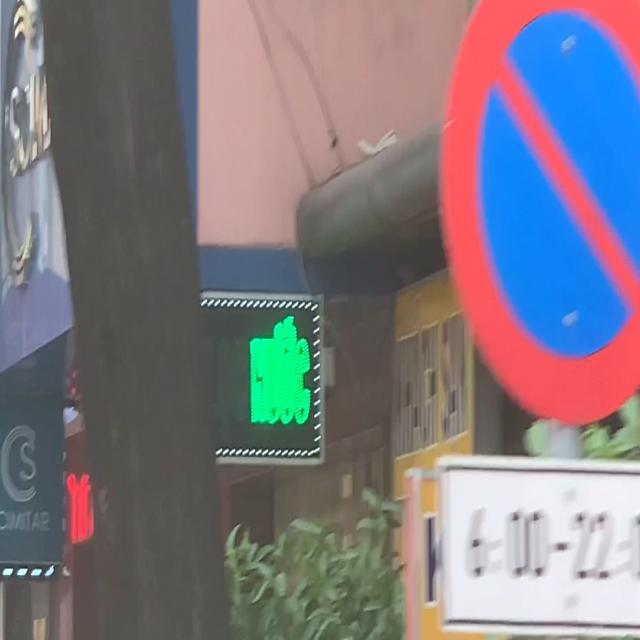Cam do: (438, 0, 640, 427)
